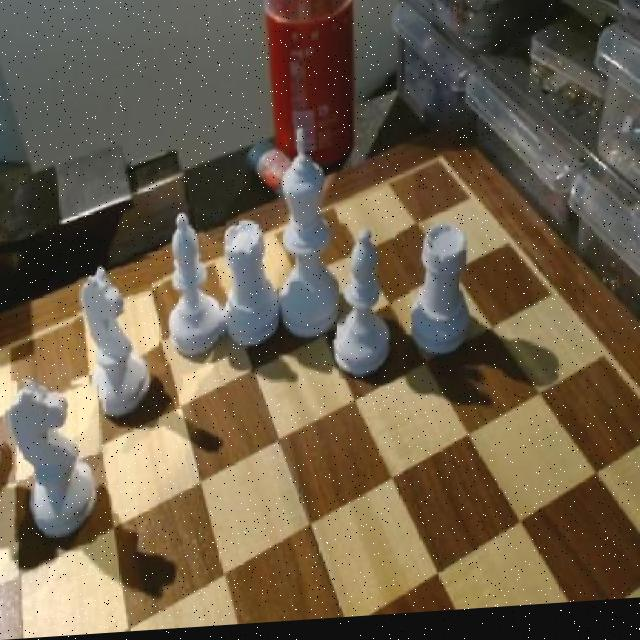black-rook: (160, 204, 224, 368), (332, 227, 394, 387)
white-bishop: (277, 127, 335, 348)
white-king: (0, 379, 104, 550), (71, 254, 151, 434)
white-queen: (218, 215, 278, 355), (409, 228, 466, 371)
